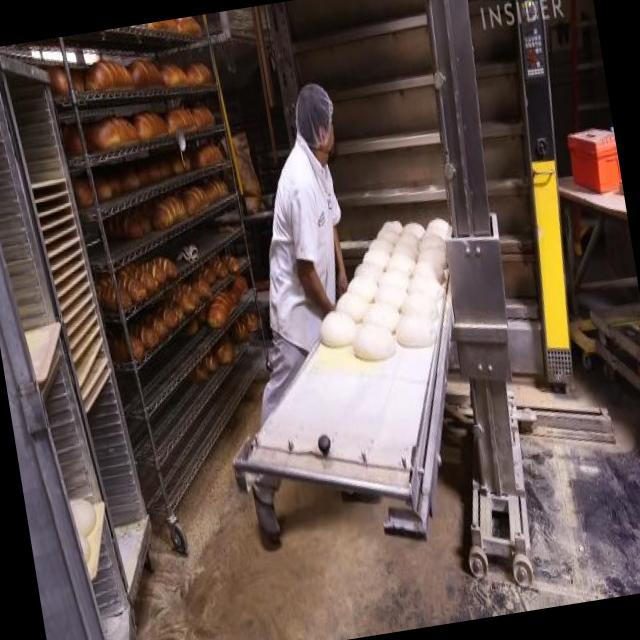hairnet: (289, 82, 340, 147)
